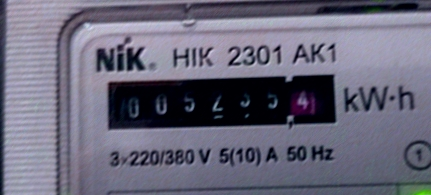0: (126, 93, 141, 118), (154, 91, 169, 115)
2: (209, 87, 225, 113)
3: (236, 83, 253, 109)
4: (294, 83, 312, 112)
5: (264, 82, 280, 110), (182, 88, 196, 113)
screen: (95, 64, 345, 138)
